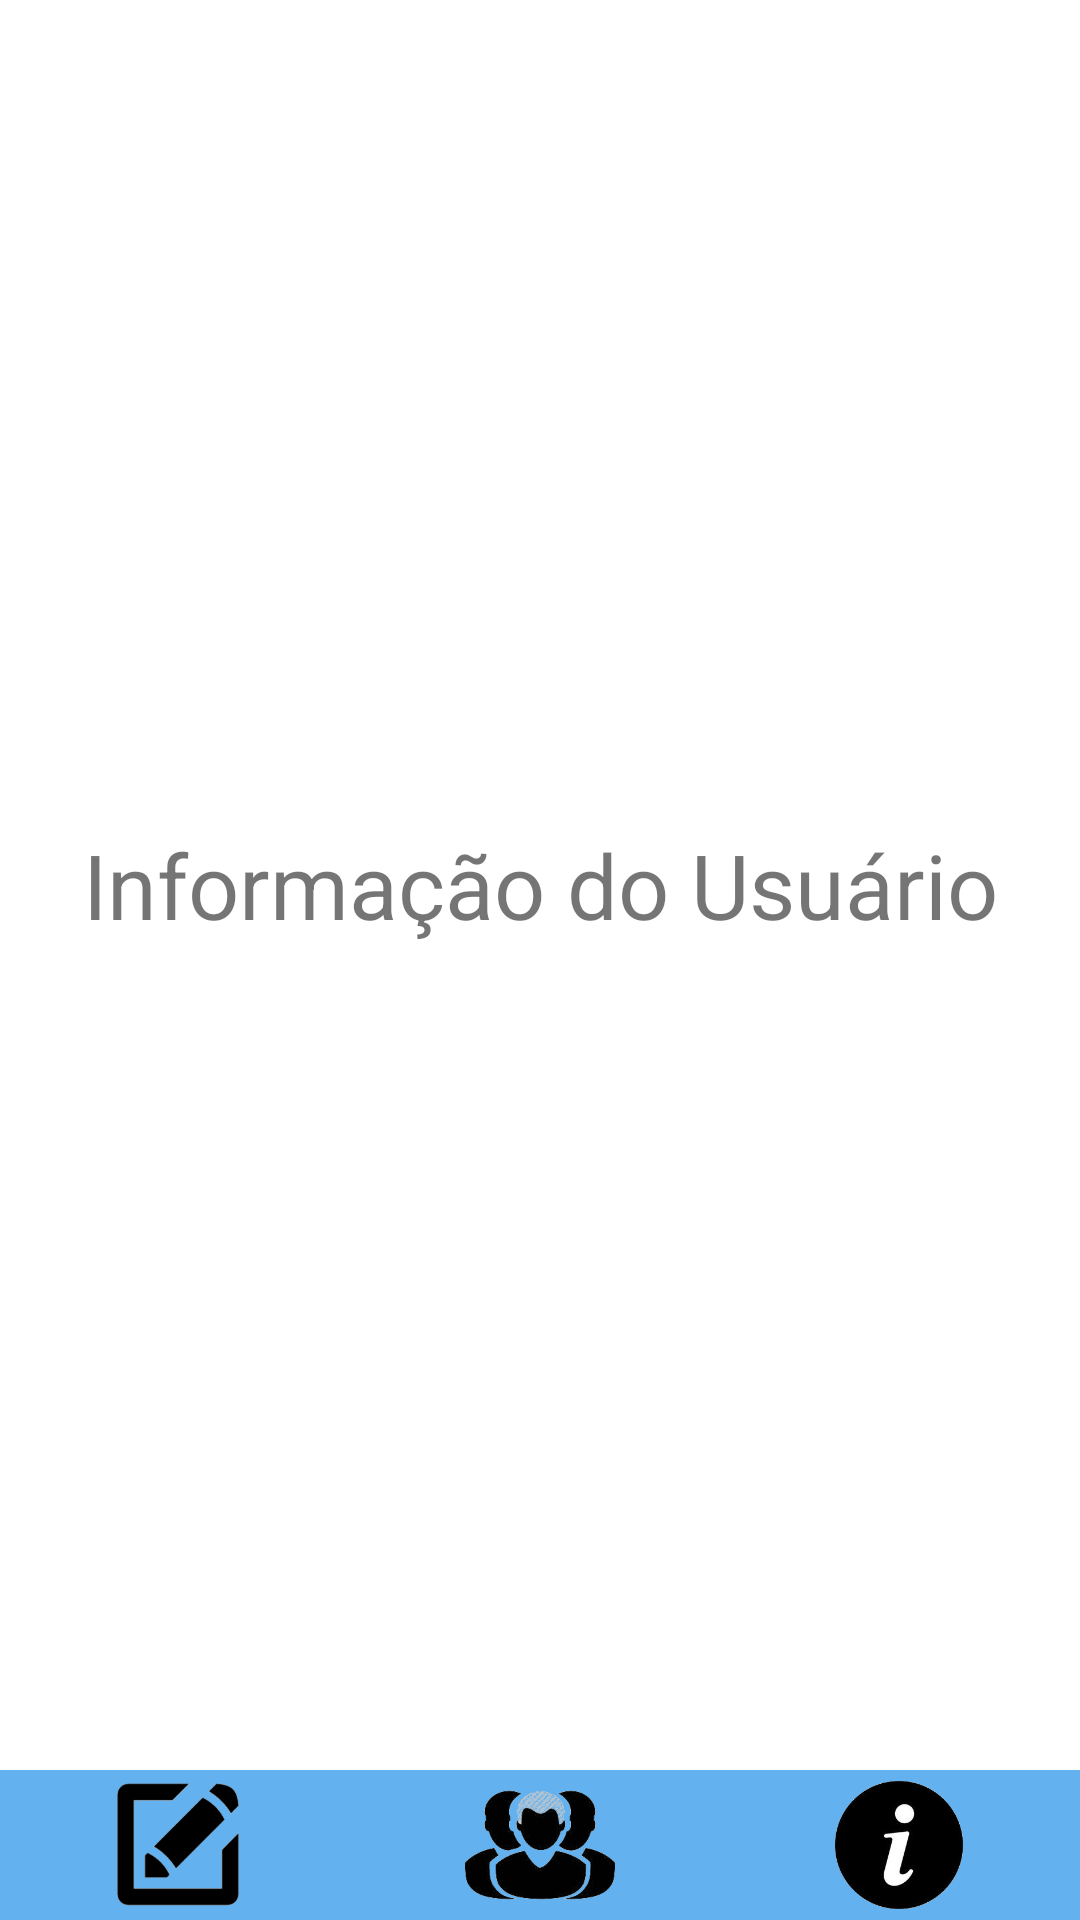

Icon click points for this 1080×1920 phone screenshot, format point (x, y):
edit: point (178, 1844)
users: point (540, 1845)
